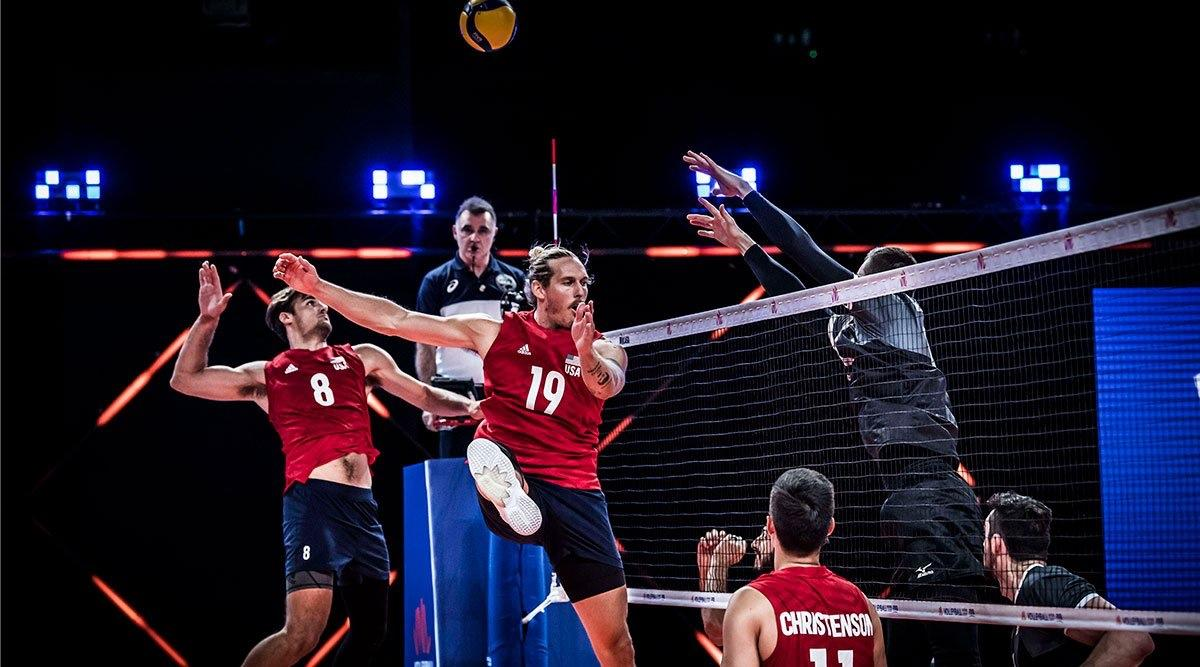ballon_volley: (458, 0, 518, 54)
